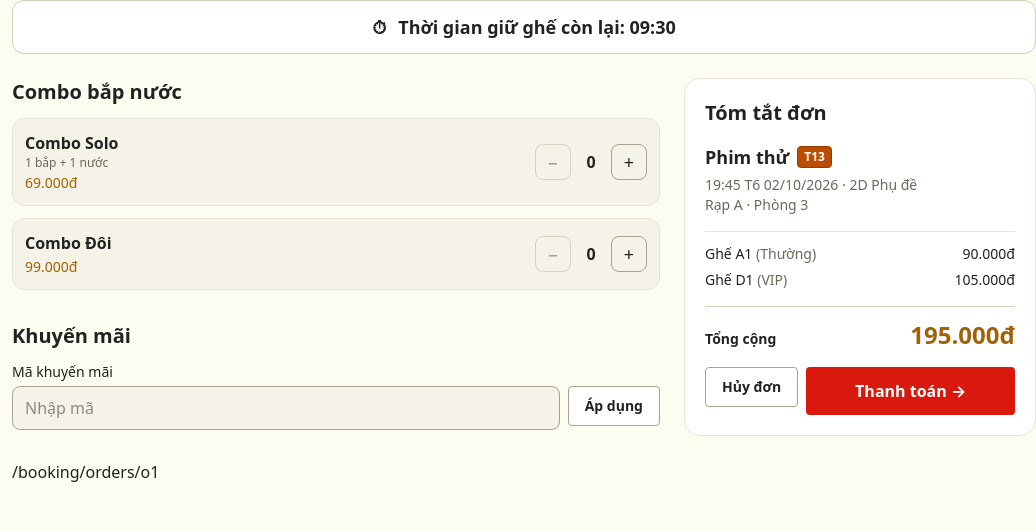
Test: CheckoutPage (P06) › ⭐ chọn combo: sau khi ngừng bấm mới gửi MỘT lần cả danh sách; tổng tiền hiển thị là con số của SERVER
Expected: the heading "Phim thử" is shown, [705,143,789,171]
Step 1. Click the button named "Tăng Combo Solo" → (629, 162), box [611,144,647,180]
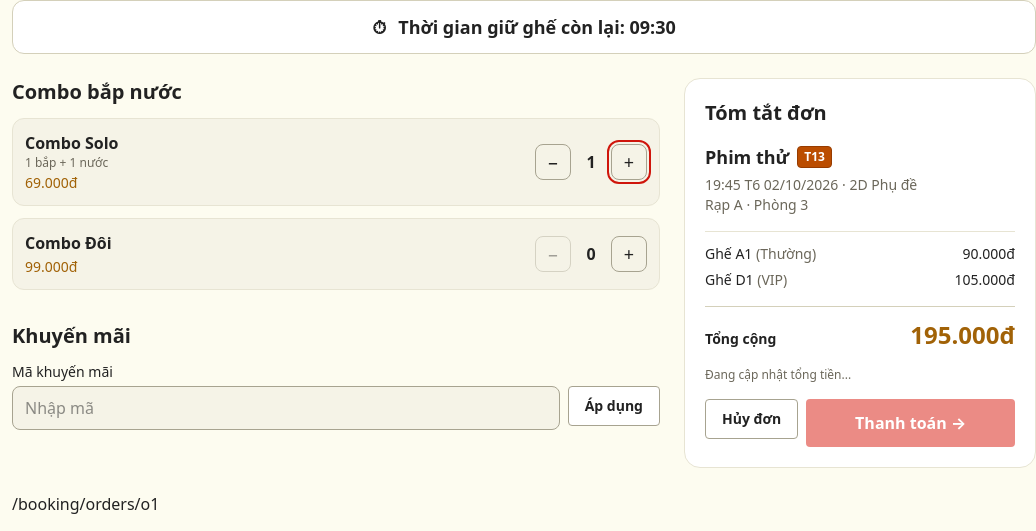
Step 2. Click the button named "Tăng Combo Solo" → (629, 162), box [611,144,647,180]
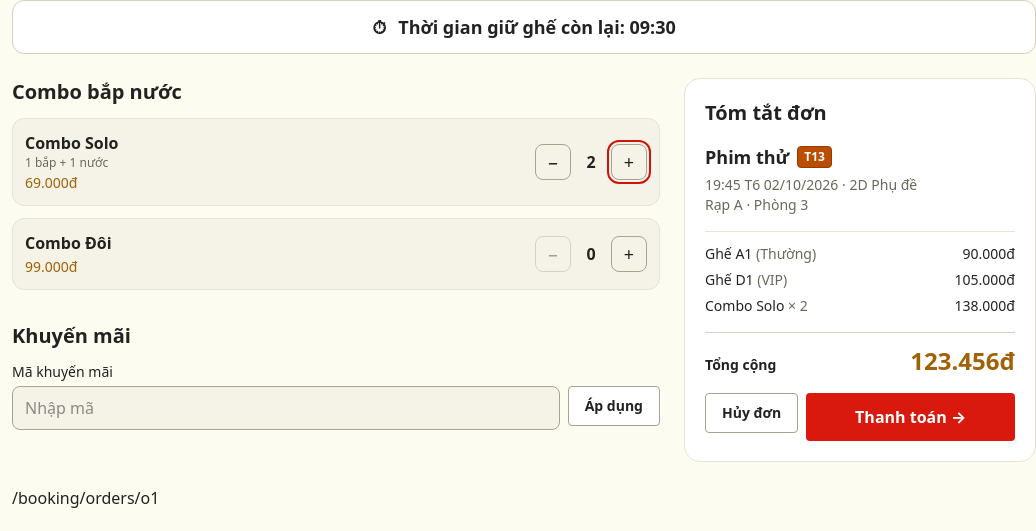
Now the text with test id "order-total" reads "123.456đ", box [910,344,1015,377]
